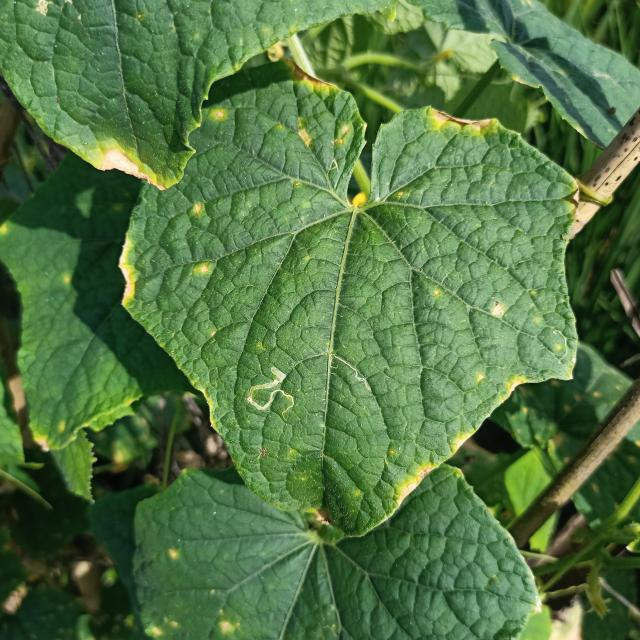disease_cucumber: (289, 79, 351, 153), (473, 367, 531, 394), (188, 200, 206, 218), (489, 300, 507, 317), (192, 262, 208, 278)
